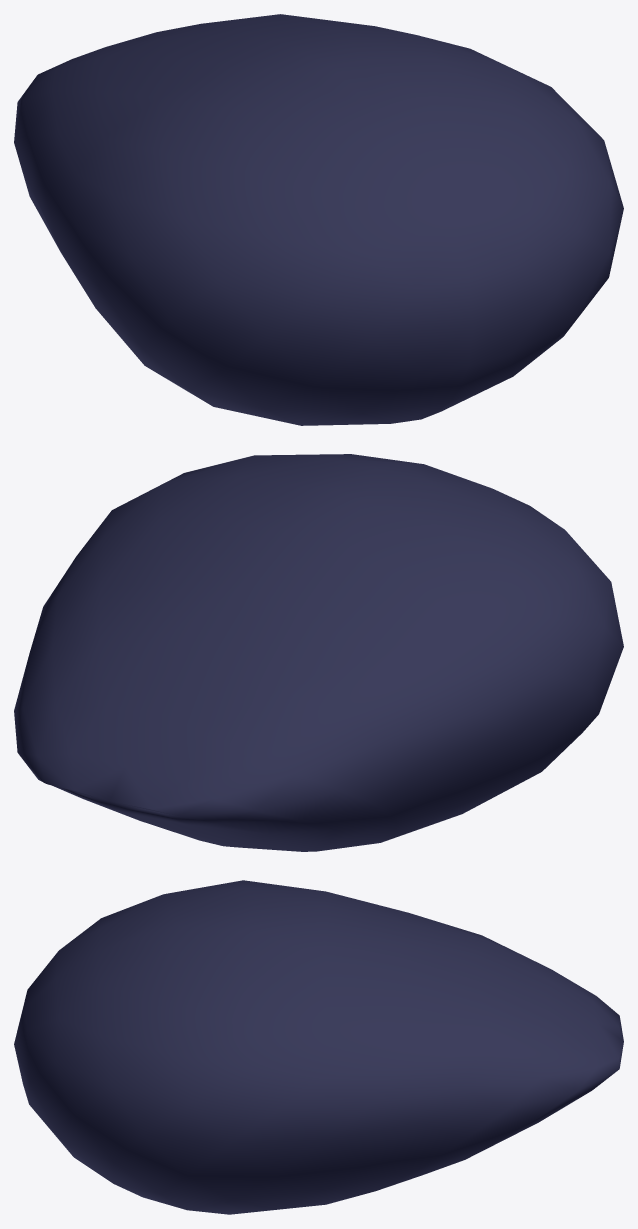
File: C0.Cowl.2c.Export.glb
The picture shows the model from 3 angles, top to bottom: view 1: azimuth 30°, elevation 25°; view 2: azimuth 150°, elevation 25°; view 3: azimuth 270°, elevation 25°; orthographic projection. The views are drawn at different scales.
Visible parts, largest first — view 1: Icosphere; view 2: Icosphere; view 3: Icosphere.
Boxes of the visible parts, left/top/right/bottom form: Icosphere: left=14, top=14, right=623, bottom=425; Icosphere: left=14, top=454, right=623, bottom=851; Icosphere: left=14, top=880, right=623, bottom=1214.
Size of the model in its own units: 1.56 by 0.9933 by 2.
